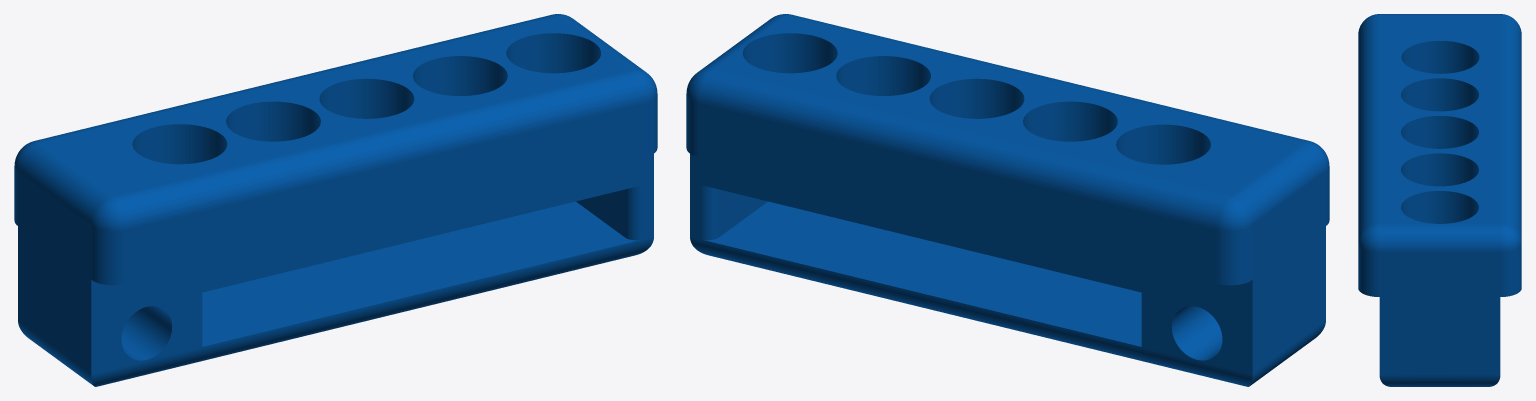
The model's file is bit-holder.glb.
3 renders of one model, left to right at view 1: azimuth 30°, elevation 25°; view 2: azimuth 150°, elevation 25°; view 3: azimuth 270°, elevation 25°, orthographic. The views are drawn at different scales.
Parts seen in each view (by area): view 1: makita magnetic bit holder v1; view 2: makita magnetic bit holder v1; view 3: makita magnetic bit holder v1.
Part boxes in pixels (<box>): makita magnetic bit holder v1: <box>14,14,657,386</box>; makita magnetic bit holder v1: <box>686,14,1329,386</box>; makita magnetic bit holder v1: <box>1358,14,1521,386</box>.
Bounding box in the file's own units: 50 × 16.62 × 15.3.
